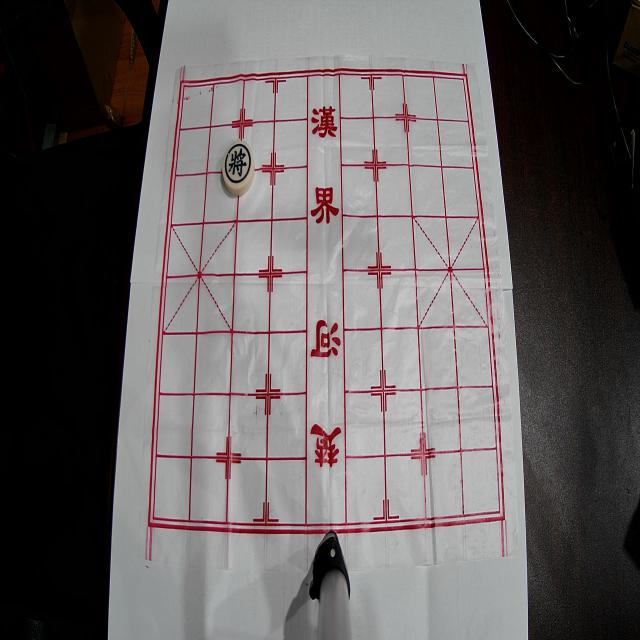black-general: (222, 141, 255, 195)
